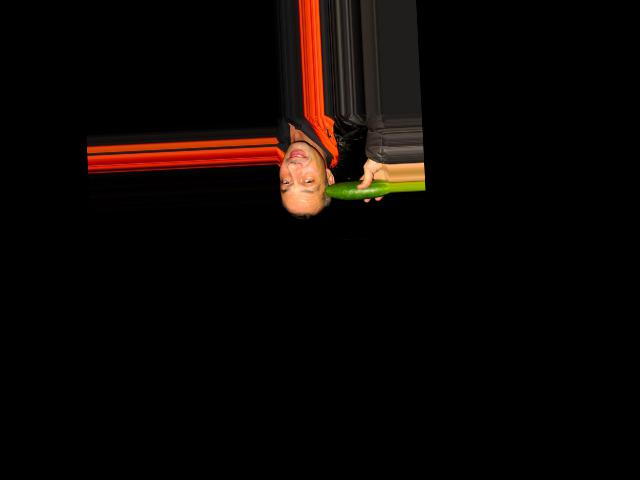cucumber: (323, 179, 390, 201)
